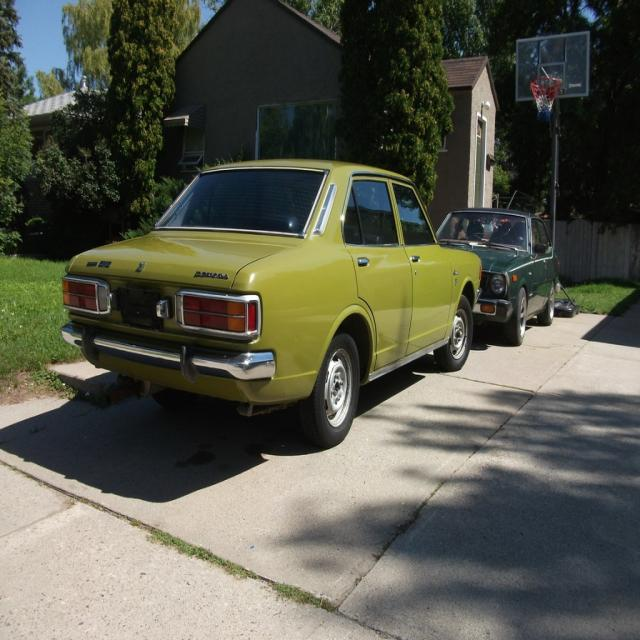car: (58, 151, 481, 447), (436, 203, 561, 341)
